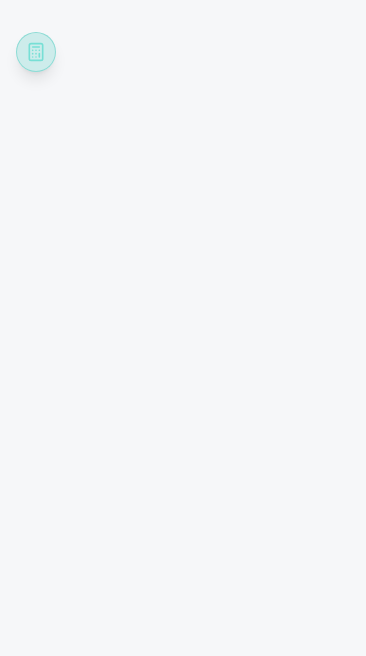
Test case: DoseCalculator › shows a friendly error box instead of crashing on invalid input
Click the button titled "Abrir Calculadora de Dose" at (36, 52), box 16,32 -> 56,72
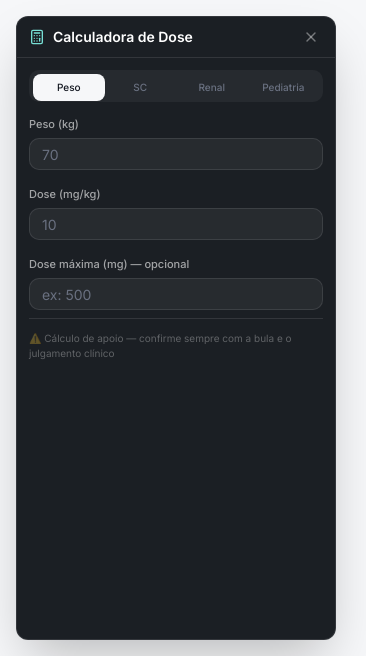
Type "-5" into the number field labelled "Peso (kg)" at (176, 154), box 29,138 -> 323,170
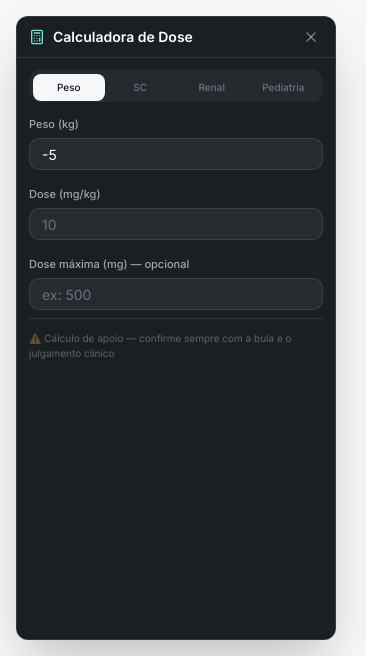
Type "5" into the number field labelled "Dose (mg/kg)" at (176, 224), box 29,208 -> 323,240
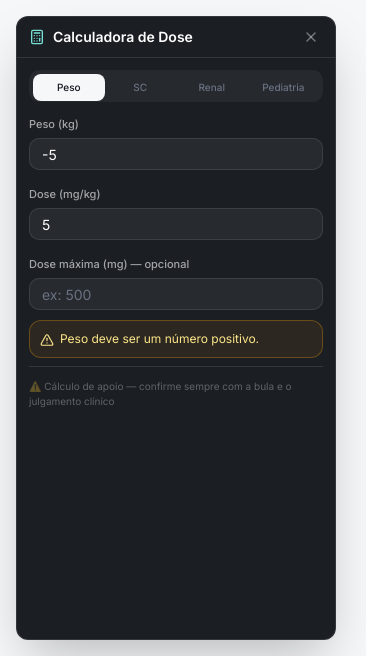
Result: the text "Peso deve ser um número positivo." is shown at 60,331 -> 259,347
